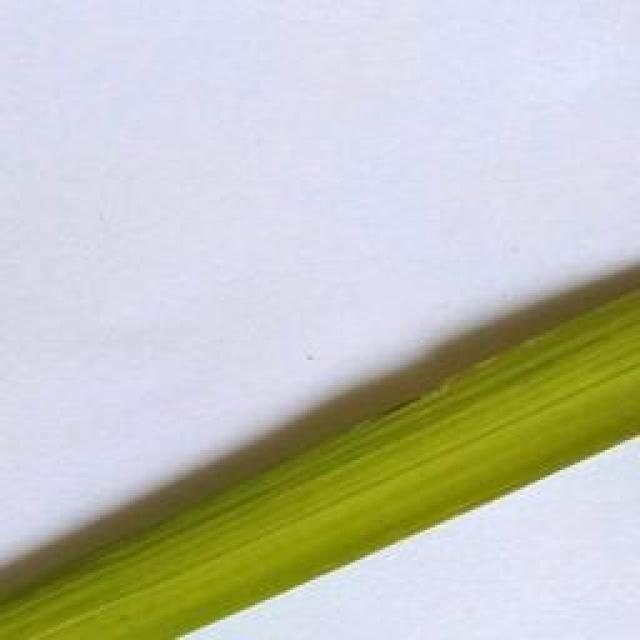Healthy-Plant: (0, 287, 640, 640)
